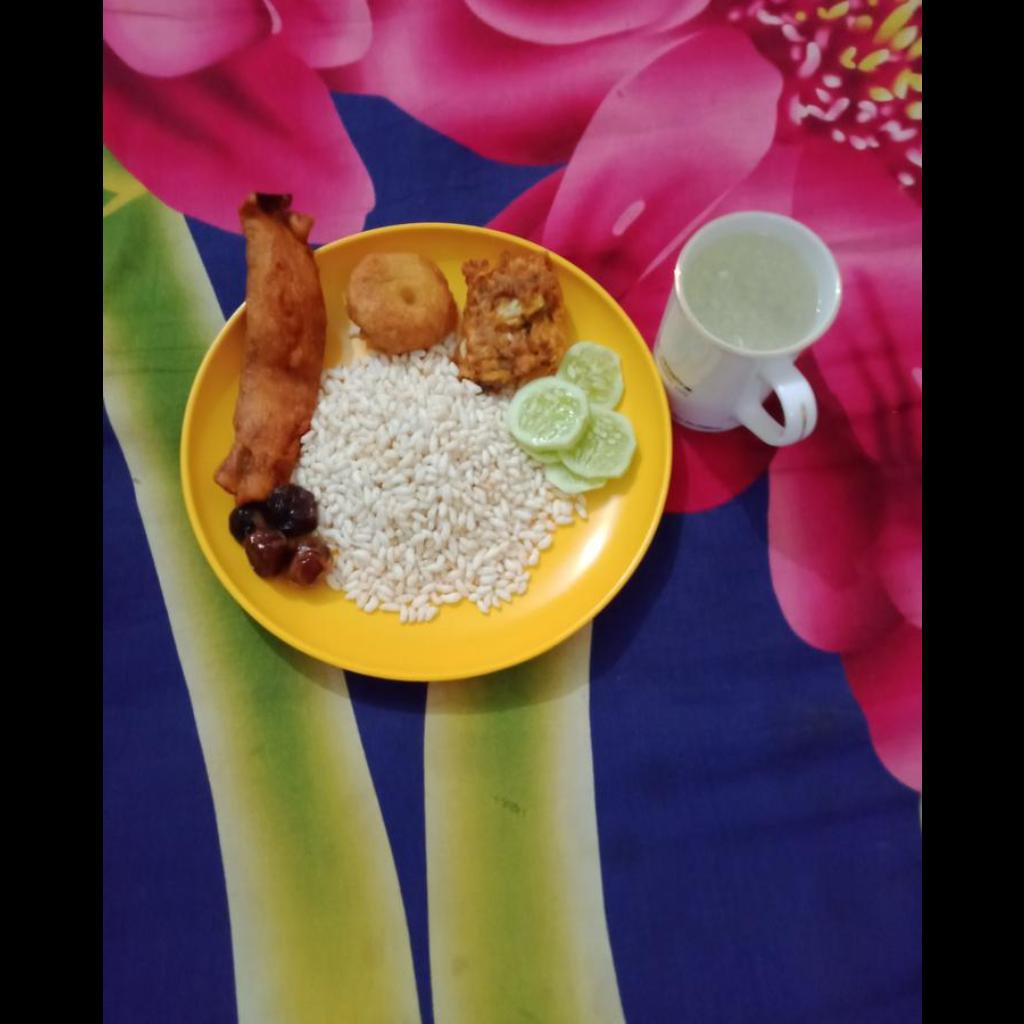beguni: (214, 189, 328, 491)
chop-alu: (345, 254, 454, 358)
cucumber: (503, 339, 630, 487)
dates: (223, 495, 314, 580)
peyaju: (457, 260, 557, 393)
puffed-rice: (312, 375, 574, 619)
